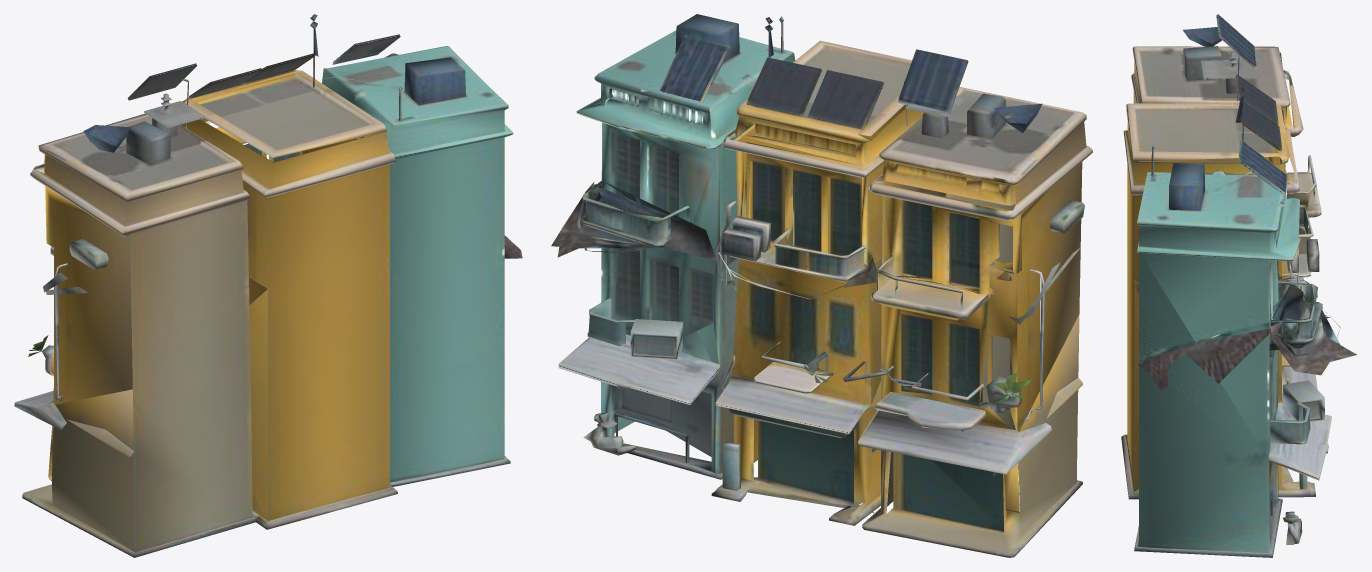
The model's file is vn_tube_house.glb.
3 views of the same model, side by side, from view 1: azimuth 30°, elevation 25°; view 2: azimuth 150°, elevation 25°; view 3: azimuth 270°, elevation 25° (orthographic). The views are drawn at different scales.
Parts seen in each view (by area): view 1: Body, Trim; view 2: Body, Trim; view 3: Body, Trim.
Boxes of the visible parts, <box> form: Body: <box>14,14,522,557</box>; Trim: <box>44,70,389,520</box>; Body: <box>551,14,1092,557</box>; Trim: <box>732,105,1082,533</box>; Body: <box>1121,14,1357,557</box>; Trim: <box>1126,52,1314,491</box>.
Bounding box in the file's own units: 9.44 × 8.98 × 4.76.
3 materials, 3 textured.
